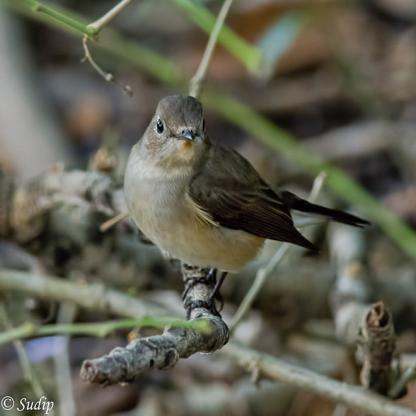Burung: (120, 94, 370, 328)
